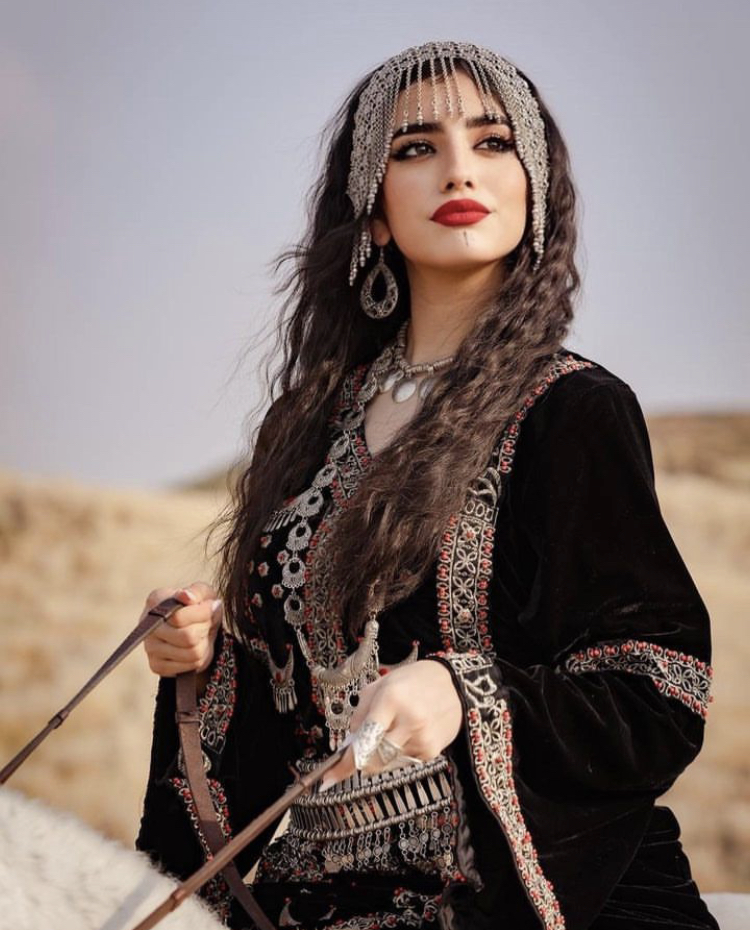Saudi_Founding_Day: (133, 35, 722, 930)
